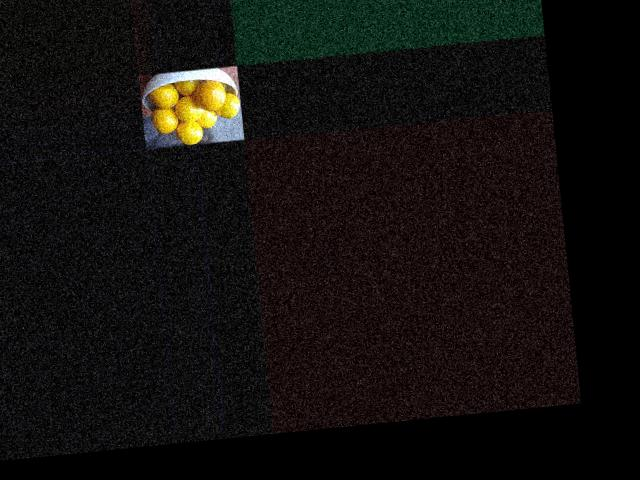lemon: (176, 74, 197, 96)
